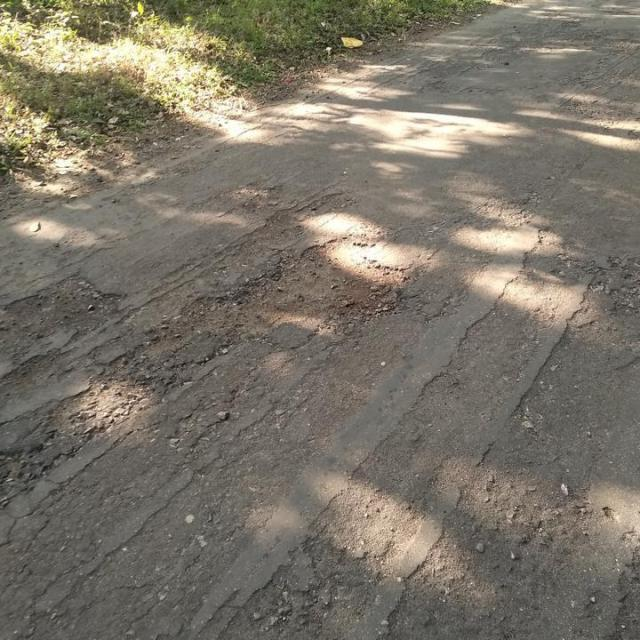buraco: (223, 234, 406, 338), (224, 236, 405, 340), (1, 272, 127, 342), (6, 275, 118, 349)
